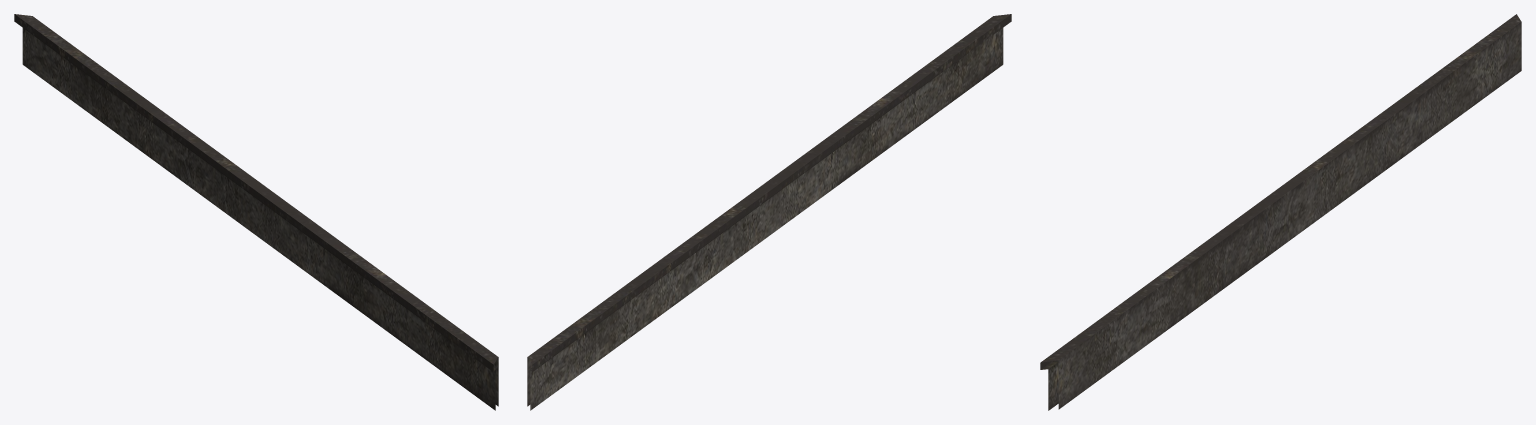
Rendered from Roof_SideWall_03.FBX.
3 renders of one model, left to right at view 1: azimuth 30°, elevation 25°; view 2: azimuth 150°, elevation 25°; view 3: azimuth 330°, elevation 25°, orthographic.
Parts seen in each view (by area): view 1: Roof_SideWall_03; view 2: Roof_SideWall_03; view 3: Roof_SideWall_03.
Part boxes in pixels (x1,y1,x2,y2): Roof_SideWall_03: (14,14,498,410); Roof_SideWall_03: (527,14,1011,410); Roof_SideWall_03: (1040,14,1521,410).
Size of the model in its own units: 22.66 by 92.93 by 1626.
